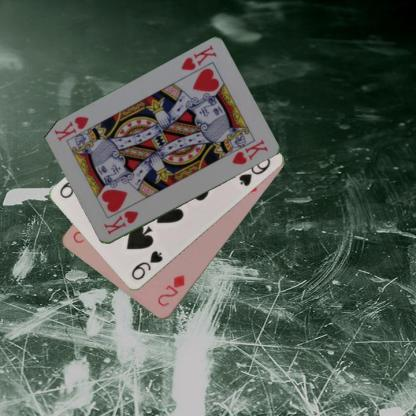2d: (154, 272, 186, 309)
9s: (128, 248, 164, 282)
Kh: (100, 208, 140, 237), (178, 43, 218, 72)
